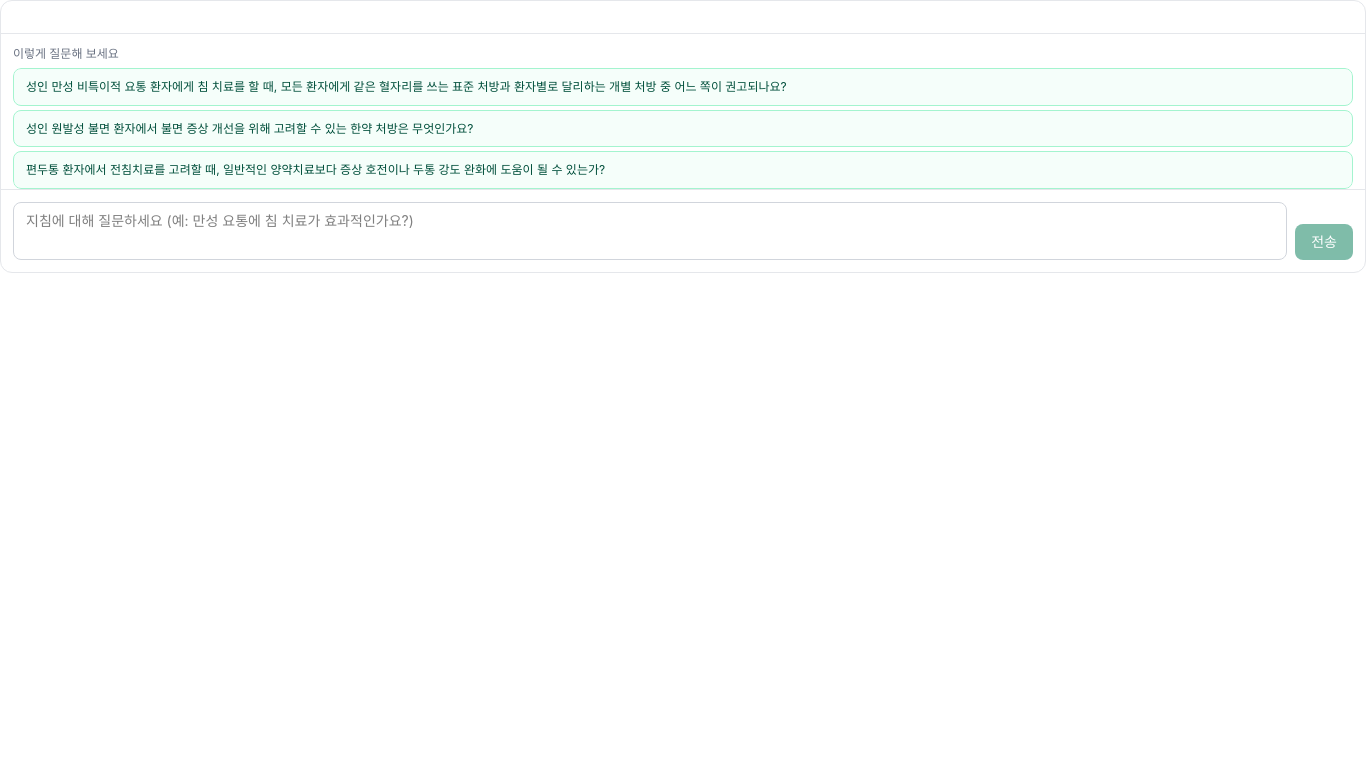
Test: 스트림 종결: 카드가 답변을 품는다 (PATIENT_GUIDANCE) › 기준 6: 답변을 품은 카드의 검토를 해당 id로 한 번 POST하고 수정 반영을 표시한다
The width and height of the screenshot is (1366, 768).
Type "CASE-057 합성진단-57a 기록의 확인 순서를 정리해 주세요." into the text box named "질문 입력" at (650, 230), box [13,202,1287,260]
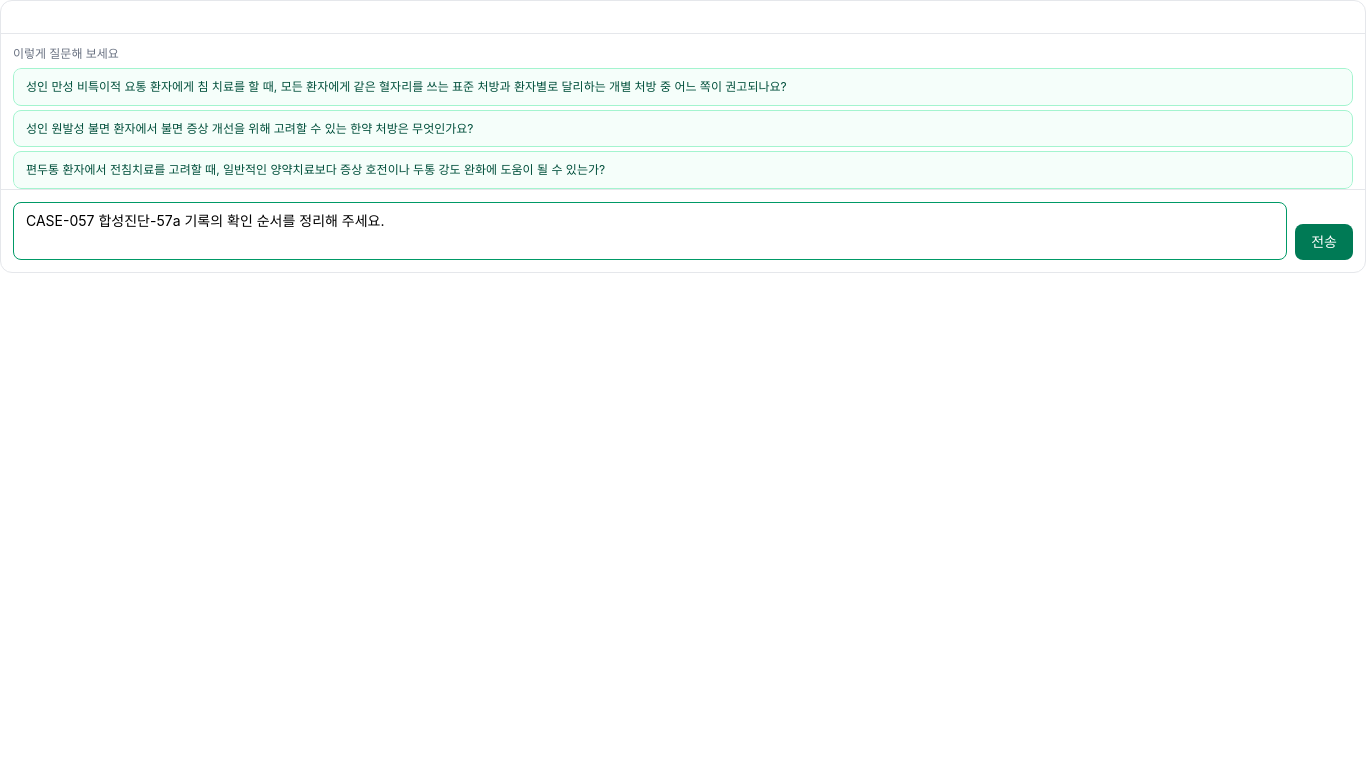
Click the button "전송" at (1324, 242), box [1295,224,1353,260]
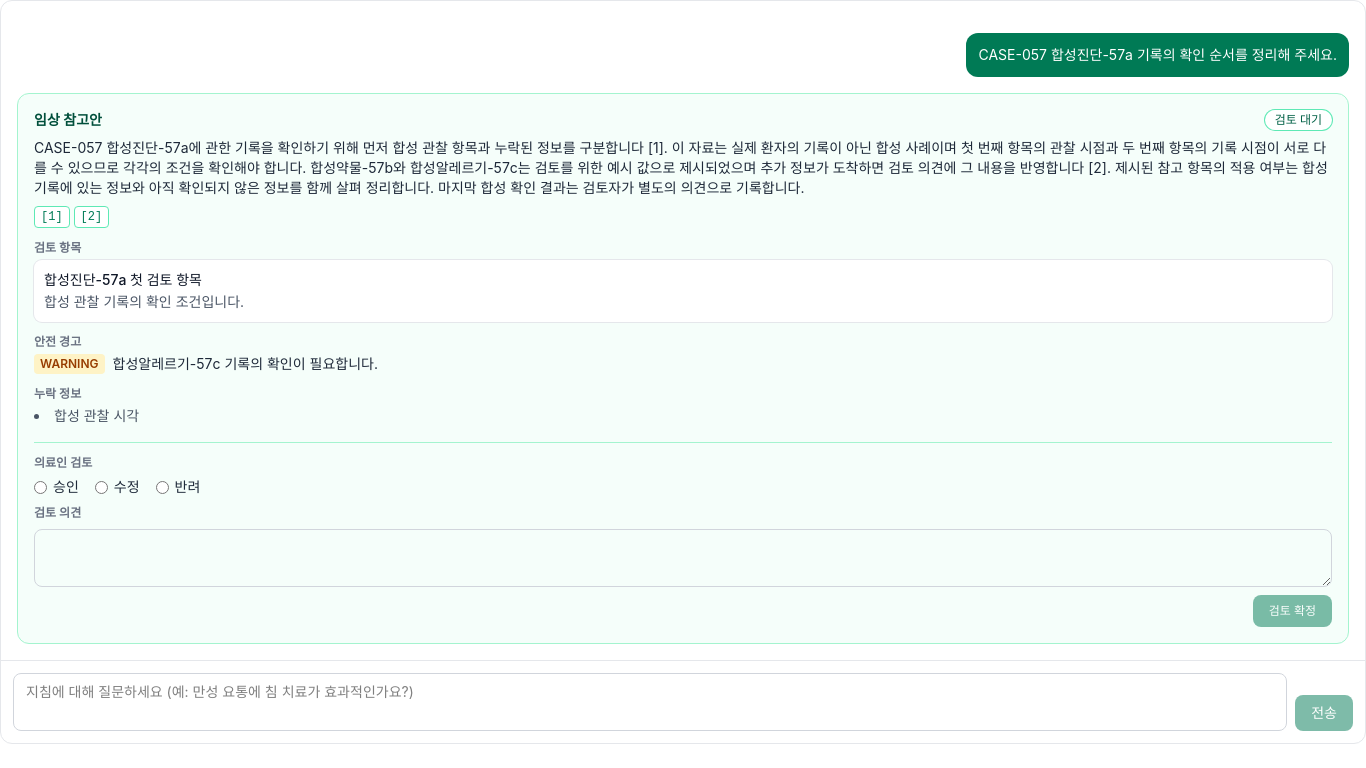
Expected: the element "임상 참고안" is shown
Click the radio button with aria-label "MODIFIED" at (101, 487), box [95,480,108,494]
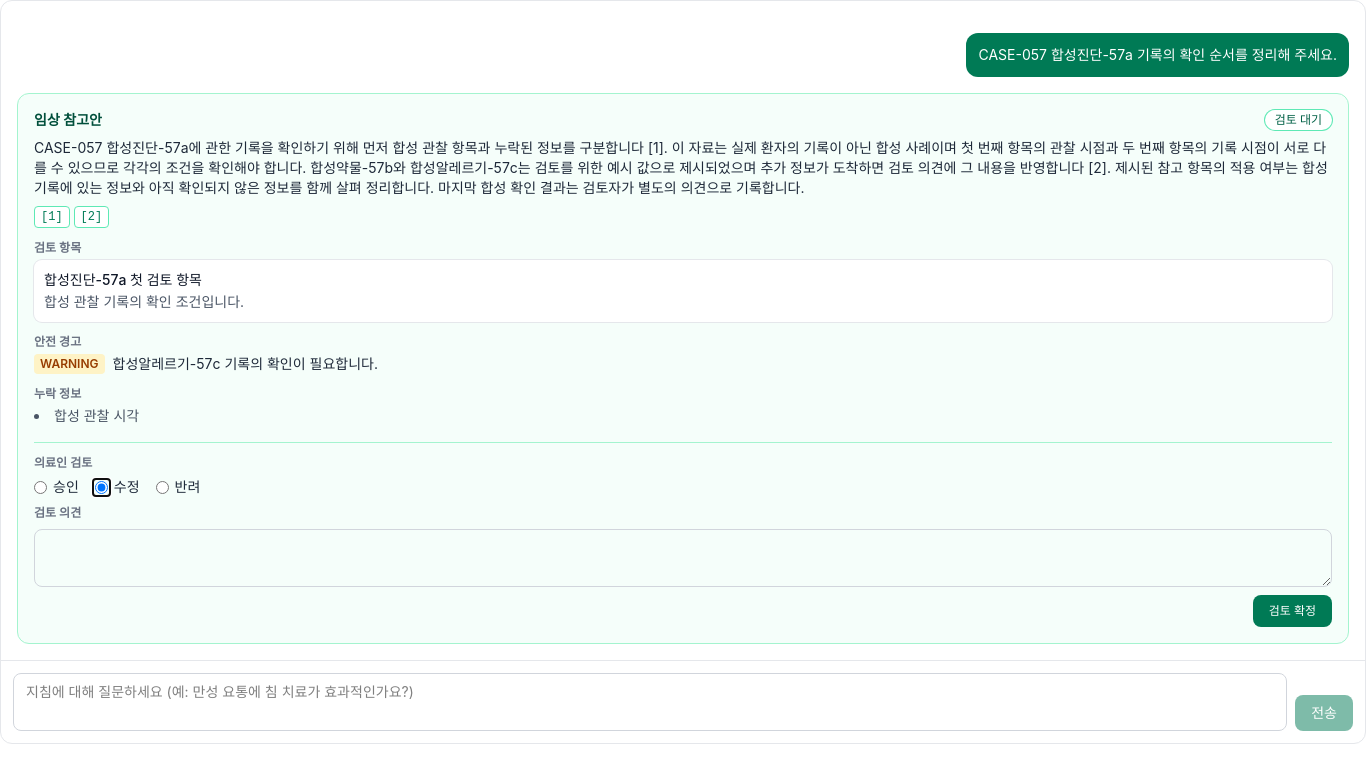
Type "CASE-057 합성 관찰 시각을 보완하여 검토했습니다." into the text box labelled "검토 의견" at (683, 558), box [34,529,1332,587]
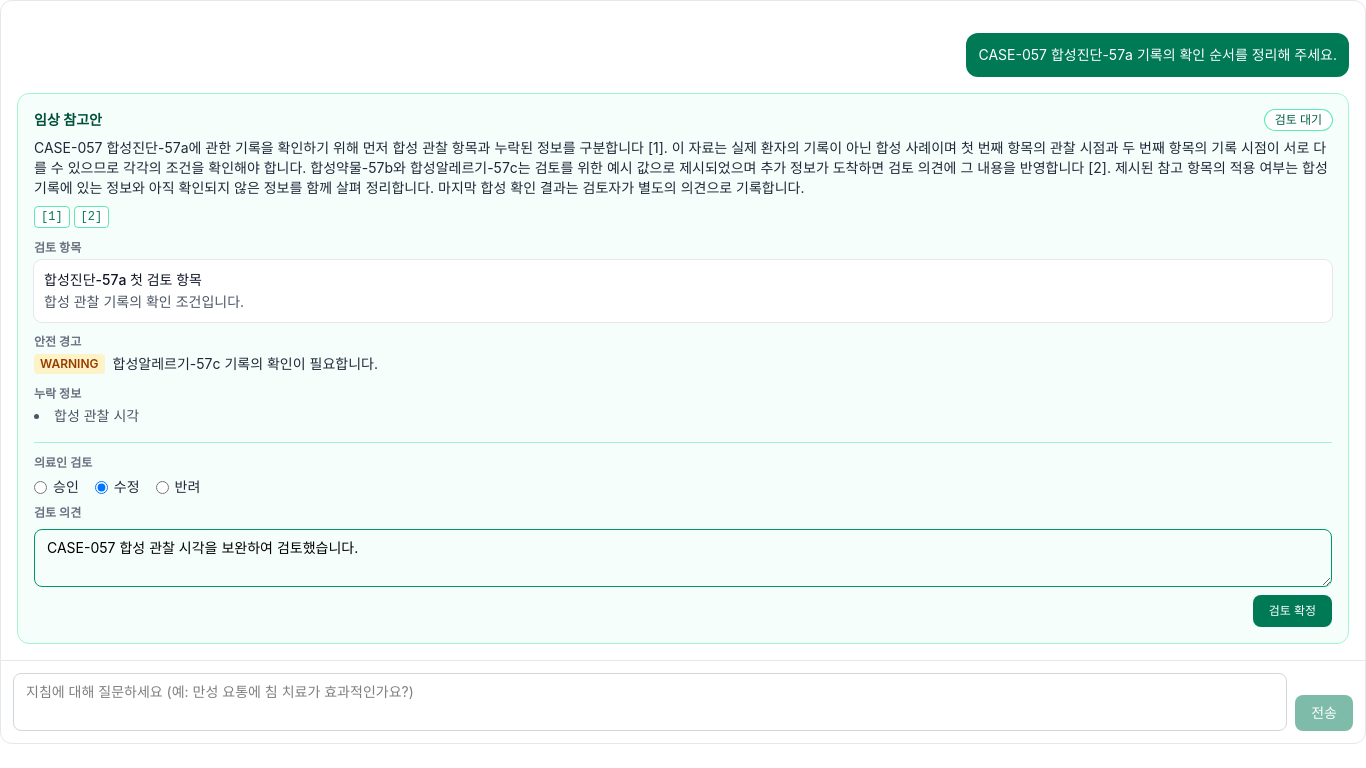
Click the button "검토 확정" at (1292, 611), box [1253,595,1332,627]
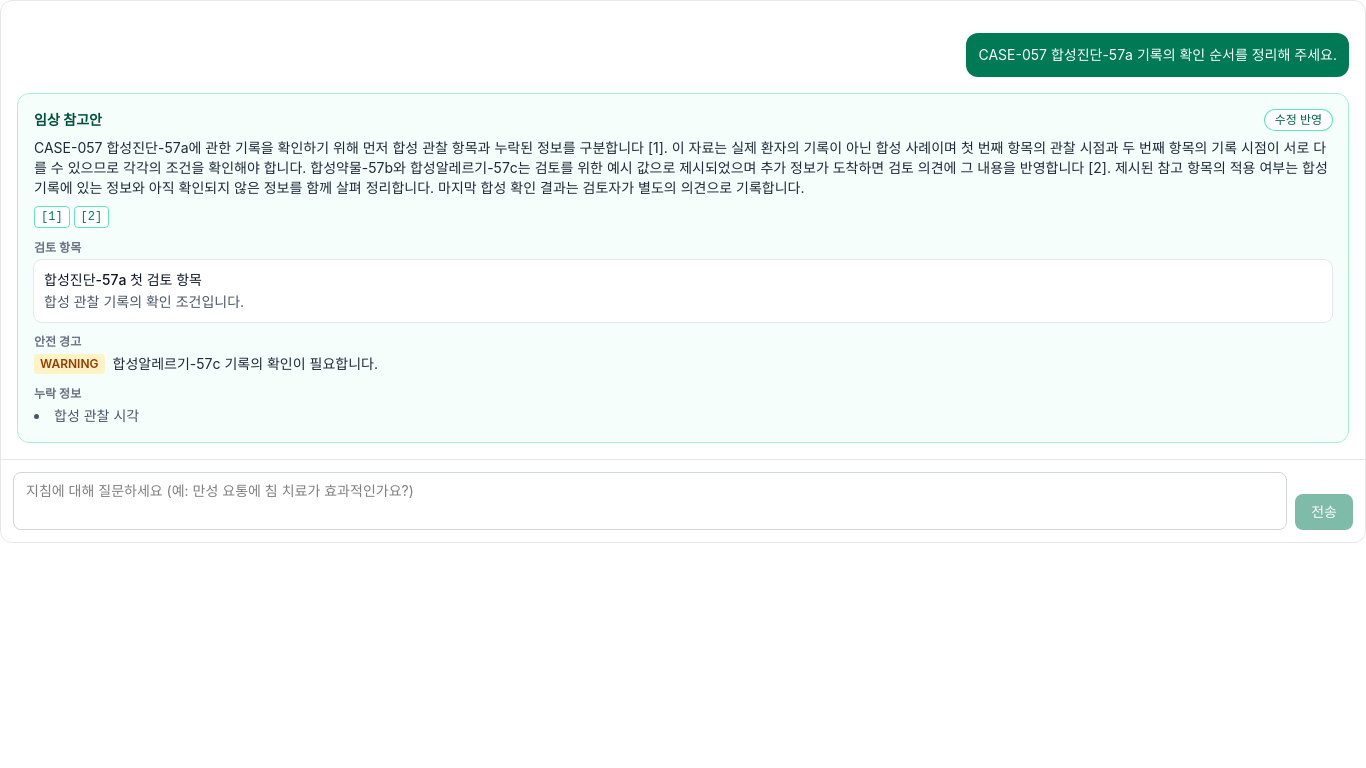
Expected: the text "수정 반영" is shown, [1265,110,1332,130]
